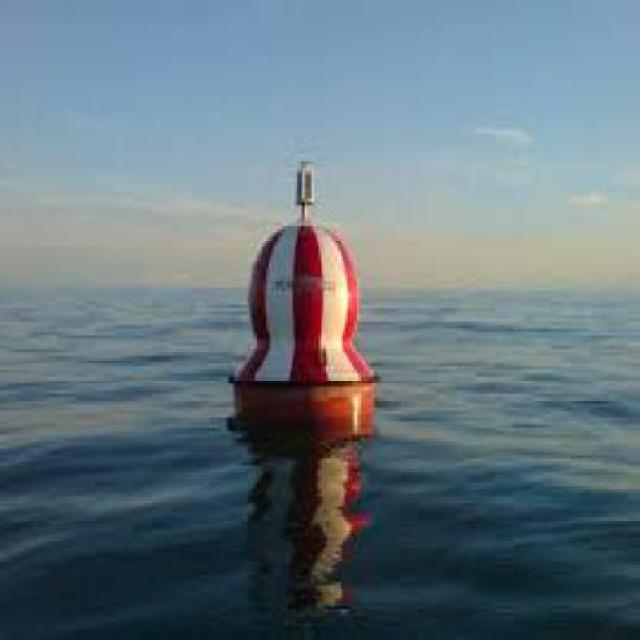buoy: (239, 158, 403, 442)
